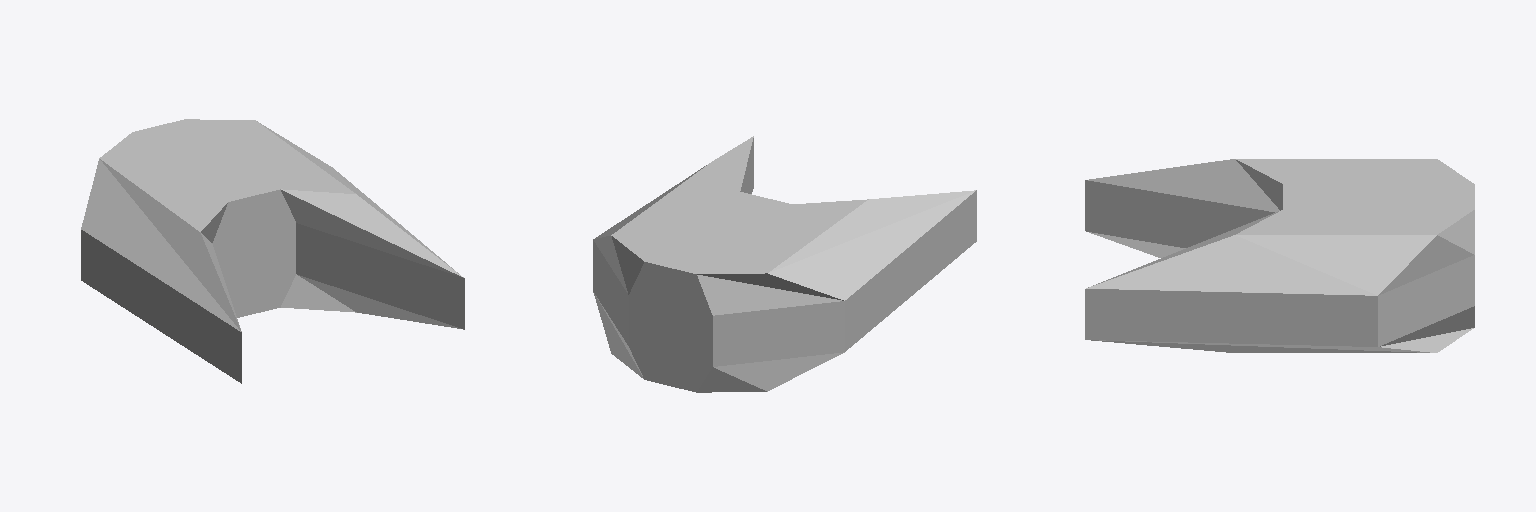
File: WhalePart6.obj
3 views of the same model, side by side, from view 1: azimuth 30°, elevation 25°; view 2: azimuth 150°, elevation 25°; view 3: azimuth 270°, elevation 25° (orthographic).
Visible parts, largest first — view 1: Part6; view 2: Part6; view 3: Part6.
Part boxes in pixels (left/top/right/bottom): Part6: left=81, top=119, right=464, bottom=383; Part6: left=593, top=136, right=976, bottom=392; Part6: left=1085, top=159, right=1474, bottom=352.
Bounding box in the file's own units: 1.77 × 0.7927 × 2.36.